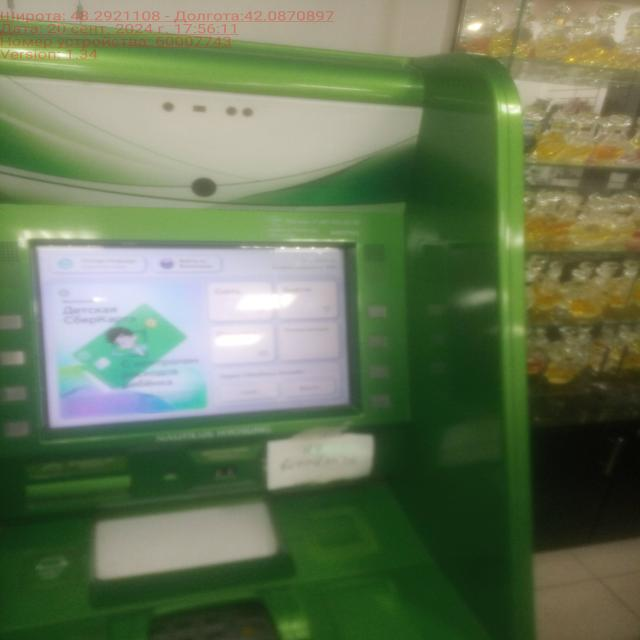bank: (0, 14, 545, 640)
